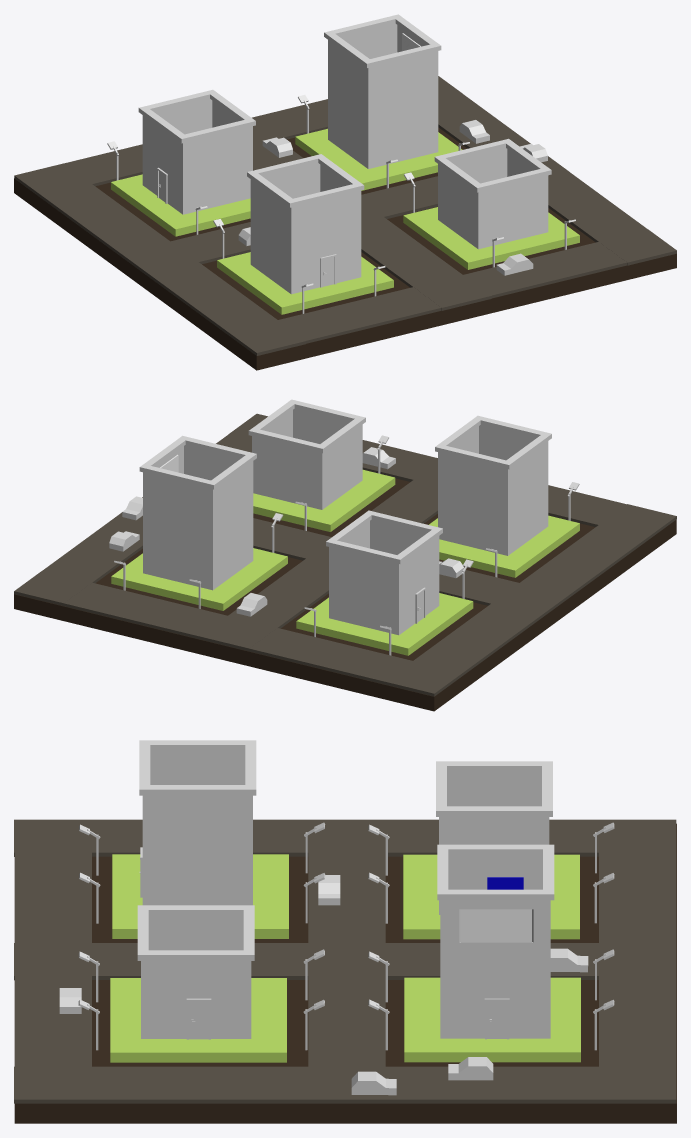
Rendered from CityScape.glb.
3 renders of one model, top to bottom at view 1: azimuth 30°, elevation 25°; view 2: azimuth 150°, elevation 25°; view 3: azimuth 270°, elevation 25°, orthographic. The views are drawn at different scales.
Parts seen in each view (by area): view 1: Ground, Road Horizontal Top, Building.001, Building.003, Building 004, Road Vertical Left, Building.002, Road Horizontal Bottom, Road Horizontal Middle, Grass.003, Grass.002, Road Vertical Middle (+12 smaller); view 2: Ground, Road Horizontal Top, Building.001, Building.003, Building 004, Road Vertical Right, Building.002, Road Horizontal Middle, Road Horizontal Bottom, Grass.001, Grass, Road Vertical Middle (+21 smaller); view 3: Ground, Road Horizontal Bottom, Building.003, Building.001, Road Horizontal Top, Road Vertical Right, Road Horizontal Middle, Road Vertical Left, Road Vertical Middle, Building.002, Grass.001, Grass.002 (+27 smaller).
Boxes of the visible parts, <box> form: Ground: <box>14,127,676,370</box>; Road Horizontal Top: <box>14,163,306,355</box>; Building.001: <box>328,23,438,168</box>; Building.003: <box>250,163,361,294</box>; Building 004: <box>142,99,252,214</box>; Road Vertical Left: <box>278,232,672,343</box>; Building.002: <box>438,148,548,249</box>; Road Horizontal Bottom: <box>438,76,676,265</box>; Road Horizontal Middle: <box>253,123,491,310</box>; Grass.003: <box>217,252,393,314</box>; Grass.002: <box>403,207,579,269</box>; Road Vertical Middle: <box>171,156,563,263</box>; Ground: <box>14,478,676,711</box>; Road Horizontal Top: <box>384,504,676,696</box>; Building.001: <box>143,445,253,590</box>; Building.003: <box>438,425,548,555</box>; Building 004: <box>329,519,439,635</box>; Road Vertical Right: <box>14,573,412,684</box>; Building.002: <box>252,408,362,509</box>; Road Horizontal Middle: <box>199,462,437,651</box>; Road Horizontal Bottom: <box>14,413,267,606</box>; Grass.001: <box>111,548,287,610</box>; Grass: <box>296,593,473,655</box>; Road Vertical Middle: <box>253,518,518,605</box>; Ground: <box>14,823,676,1123</box>; Road Horizontal Bottom: <box>14,1066,676,1103</box>; Building.003: <box>142,751,252,905</box>; Building.001: <box>440,855,550,1038</box>; Road Horizontal Top: <box>14,819,676,856</box>; Road Vertical Right: <box>599,852,676,1103</box>; Road Horizontal Middle: <box>14,943,676,980</box>; Road Vertical Left: <box>15,852,91,1103</box>; Road Vertical Middle: <box>308,852,385,1103</box>; Building.002: <box>141,916,251,1038</box>; Grass.001: <box>404,977,580,1062</box>; Grass.002: <box>110,978,286,1062</box>.
Bounding box in the file's own units: 60.02 × 17.56 × 60.05.
